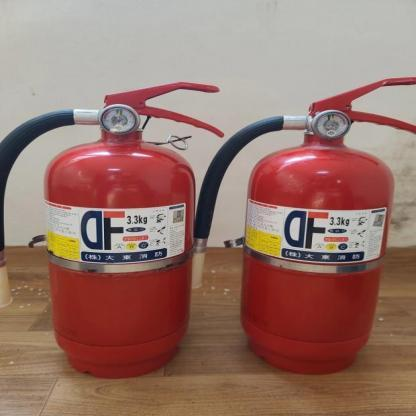Fire Extinguisher: (8, 68, 215, 381), (221, 67, 416, 392)
